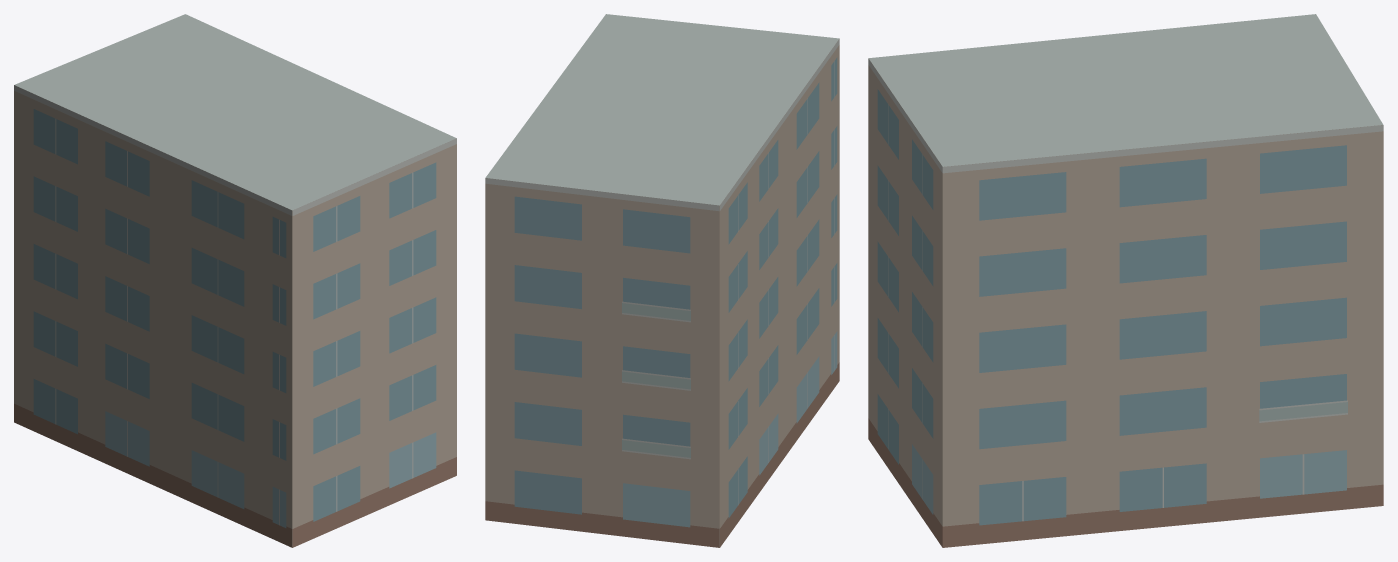
File: survey-upis-32688305.glb
3 renders of one model, left to right at view 1: azimuth 30°, elevation 25°; view 2: azimuth 150°, elevation 25°; view 3: azimuth 270°, elevation 25°, orthographic. The views are drawn at different scales.
Visible parts, largest first — view 1: survey-upis-32688305.tmp; view 2: survey-upis-32688305.tmp; view 3: survey-upis-32688305.tmp.
Part boxes in pixels (x1,y1,x2,y2): survey-upis-32688305.tmp: [14, 14, 456, 547]; survey-upis-32688305.tmp: [485, 14, 839, 547]; survey-upis-32688305.tmp: [868, 14, 1383, 547].
Size of the model in its own units: 12.4 by 14.4 by 17.65.
